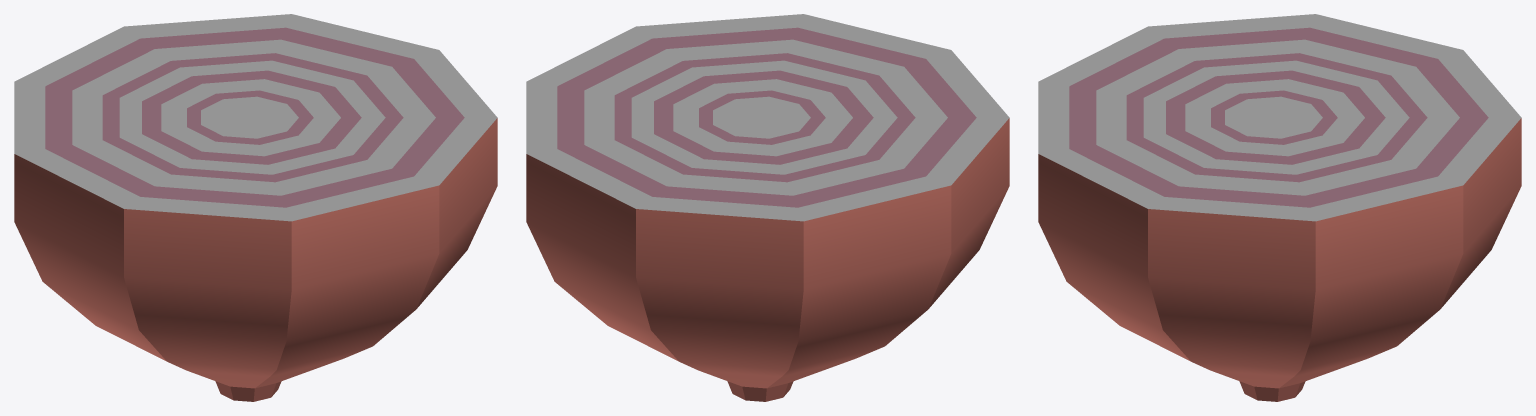
Rendered from Onion.fbx.
3 renders of one model, left to right at view 1: azimuth 30°, elevation 25°; view 2: azimuth 150°, elevation 25°; view 3: azimuth 270°, elevation 25°, orthographic.
Visible parts, largest first — view 1: Sphere.005; view 2: Sphere.005; view 3: Sphere.005.
Boxes of the visible parts, left/top/right/bottom form: Sphere.005: left=14, top=14, right=497, bottom=401; Sphere.005: left=526, top=14, right=1009, bottom=401; Sphere.005: left=1038, top=14, right=1521, bottom=401.
Size of the model in its own units: 215 by 133 by 211.
